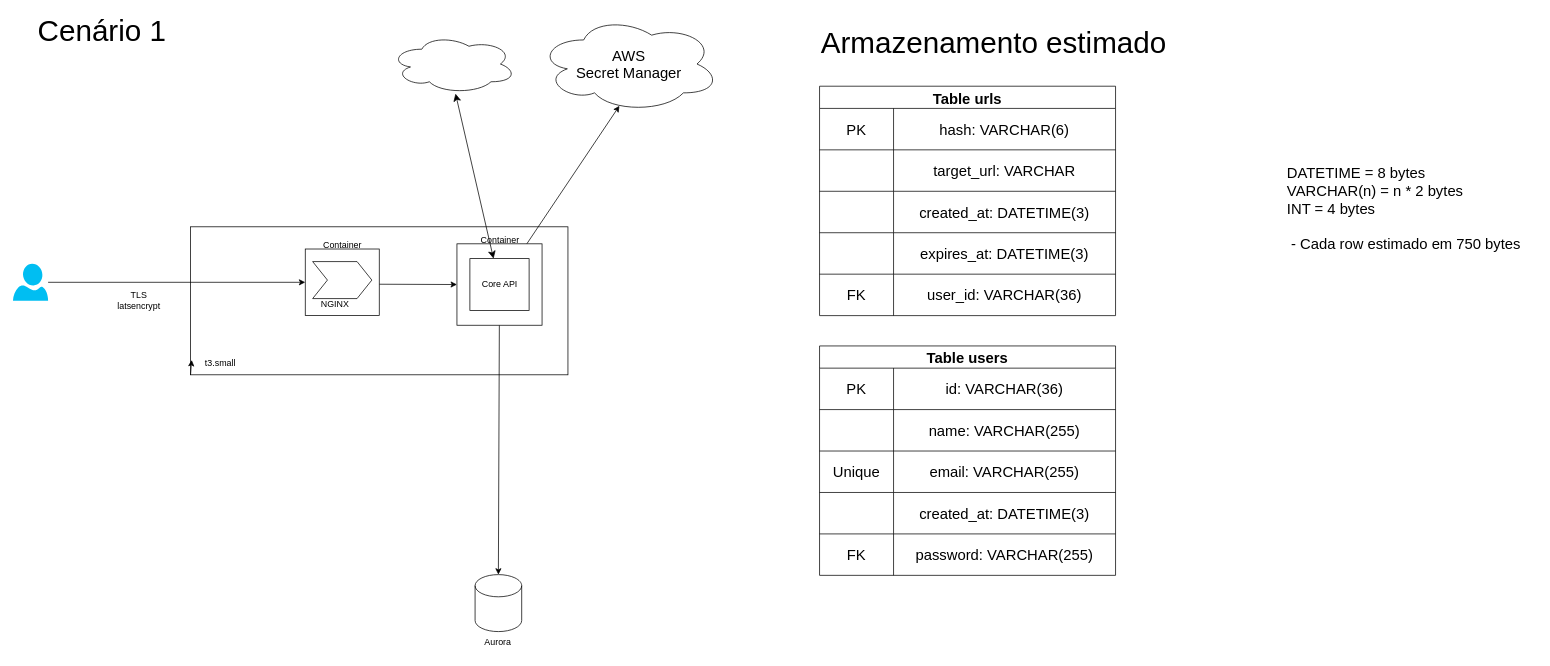
Image size: 1550x666. Some labels were removed from this diagram. The centre of each missing label's shape, as x and y in pixels:
"MySQL" goes at (498,603).
"New Relic" goes at (453,64).
